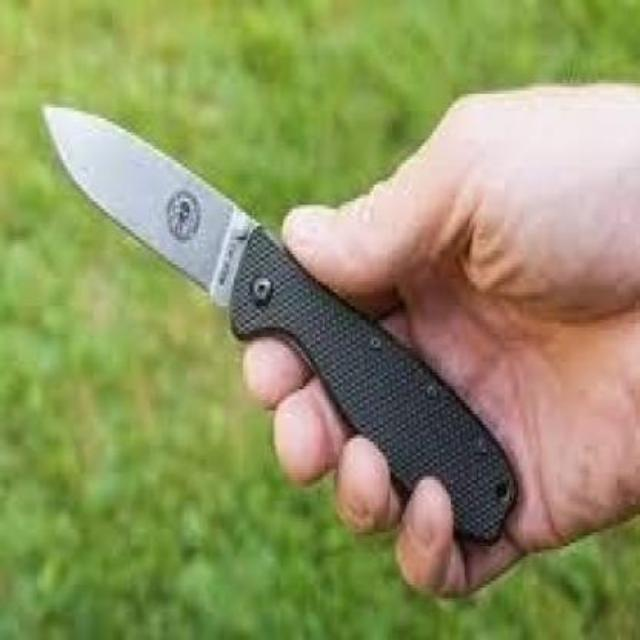Knife: (44, 108, 520, 546)
